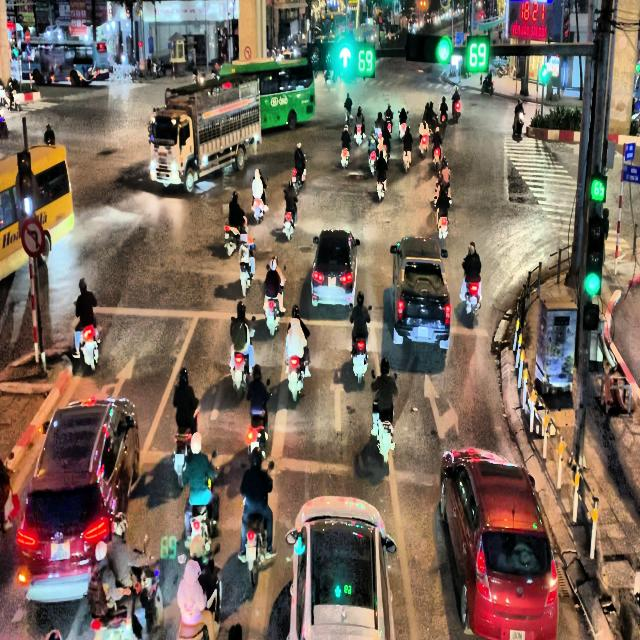lisence_plate: (49, 538, 71, 562), (509, 627, 526, 639), (417, 327, 429, 340), (328, 279, 336, 291)
